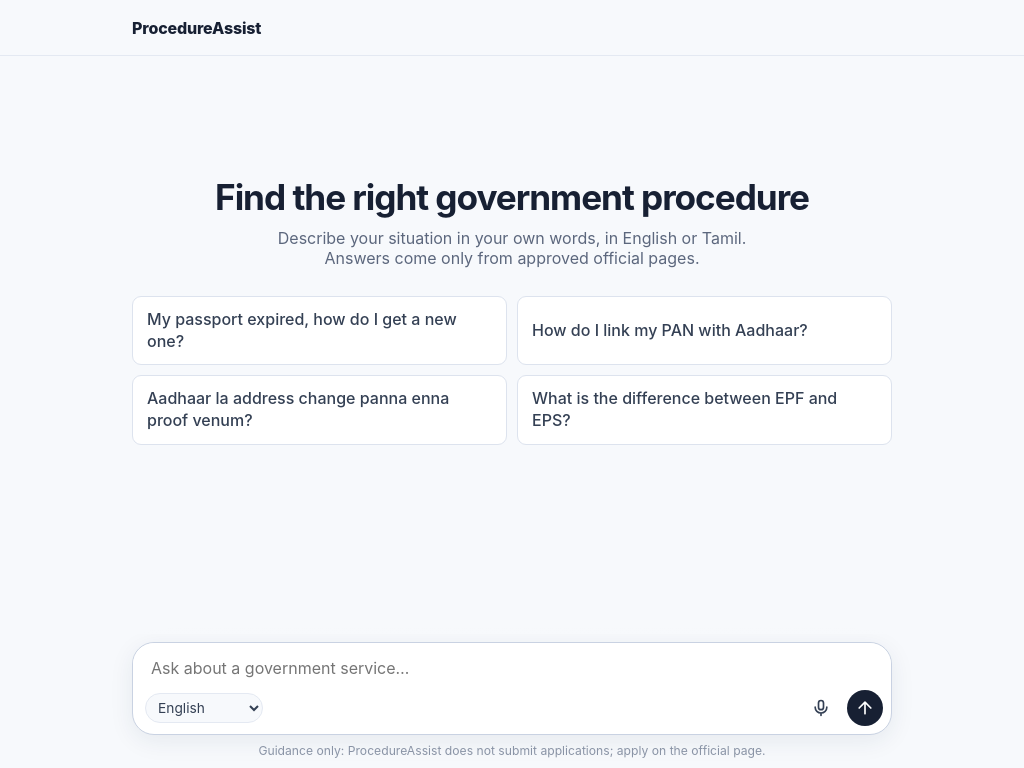
citizen workflow › shows the matched procedure with steps, eligibility, link and disclaimer
Type "My passport expired" into the text box named "Your situation or question" at point(512, 663), box [133,643,891,684]
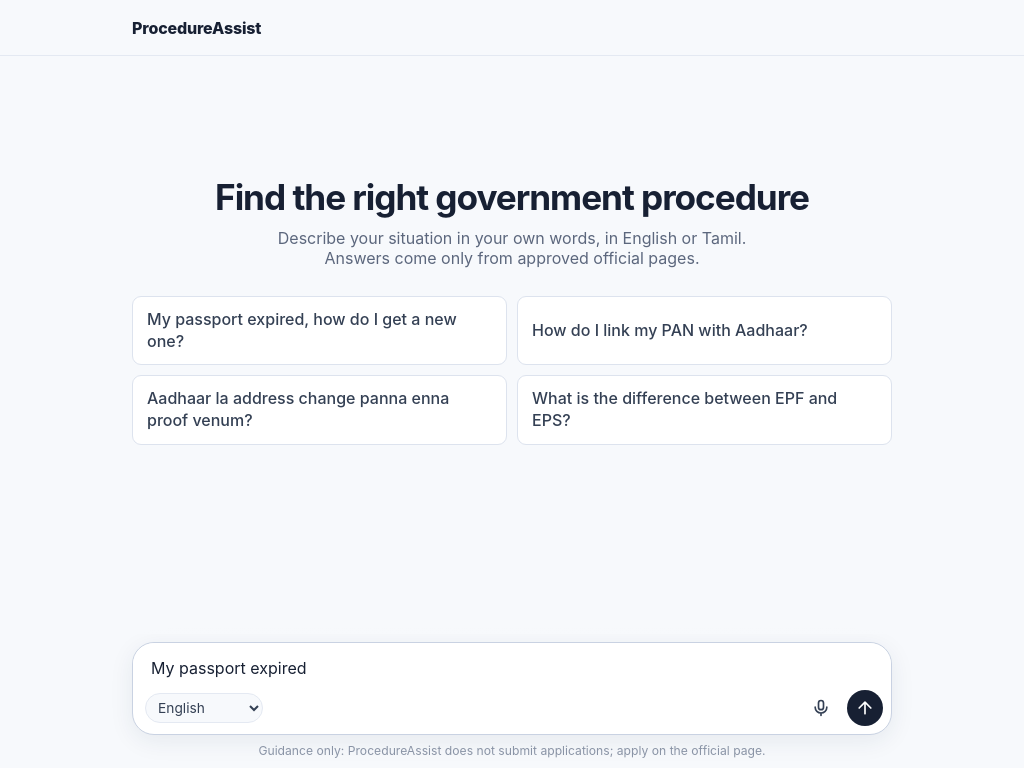
Click the button named "Send" at point(865, 708), box [847,690,883,726]
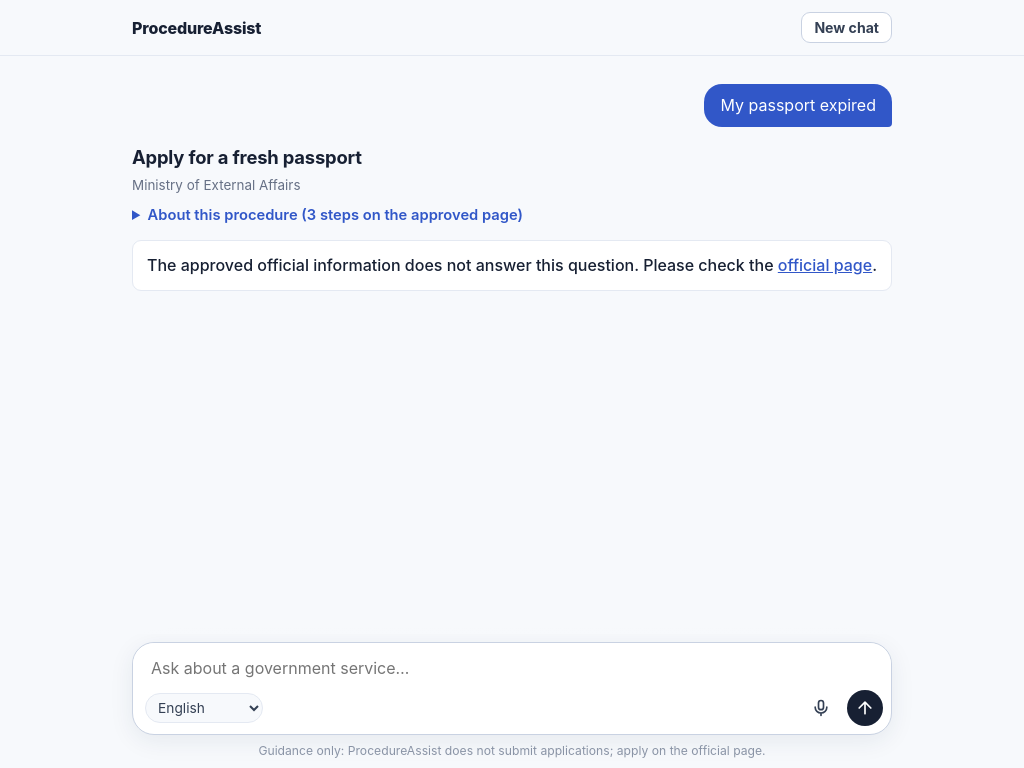
Check: the text "does not submit applications" is shown, box [258,743,766,758]
Check: the heading "Apply for a fresh passport" is shown, box [132,146,362,168]
